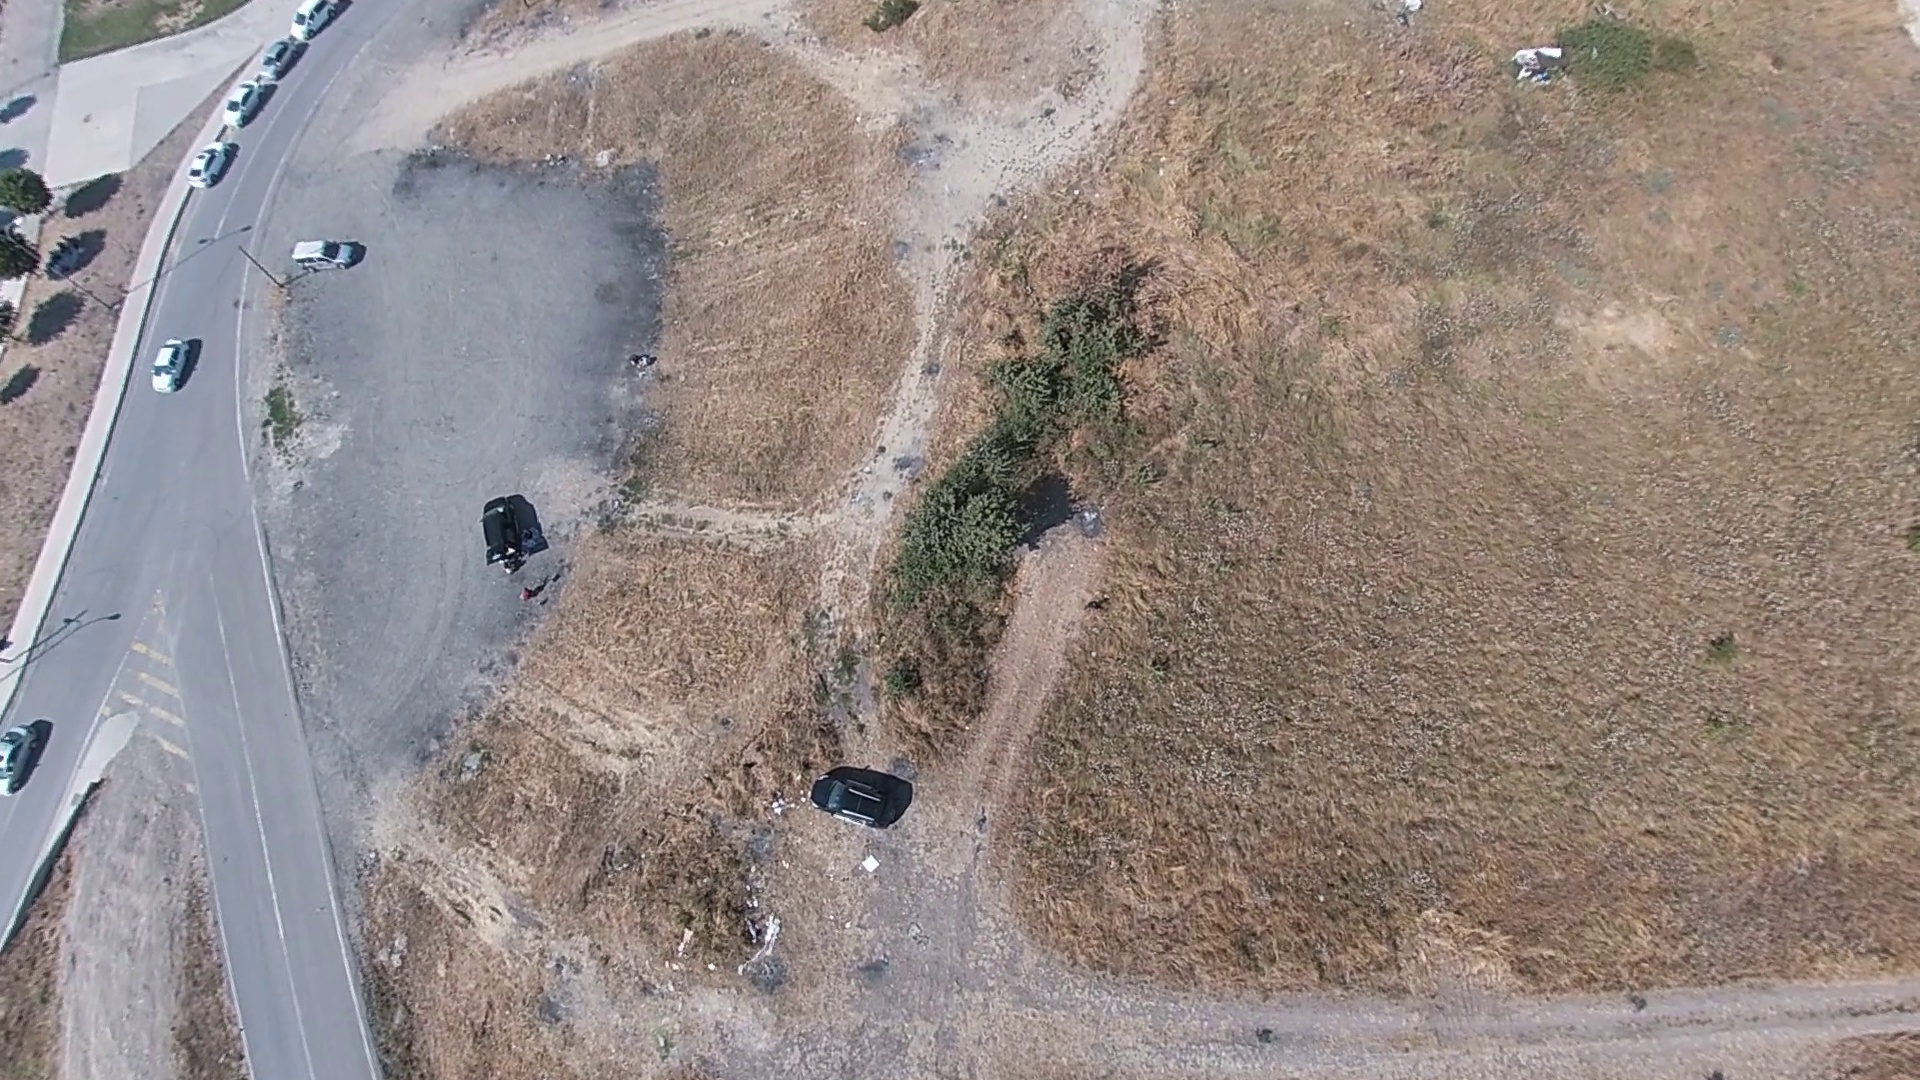arac: (481, 485, 550, 571), (807, 767, 905, 827), (148, 330, 199, 392)
